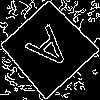A: (24, 24, 80, 81)
